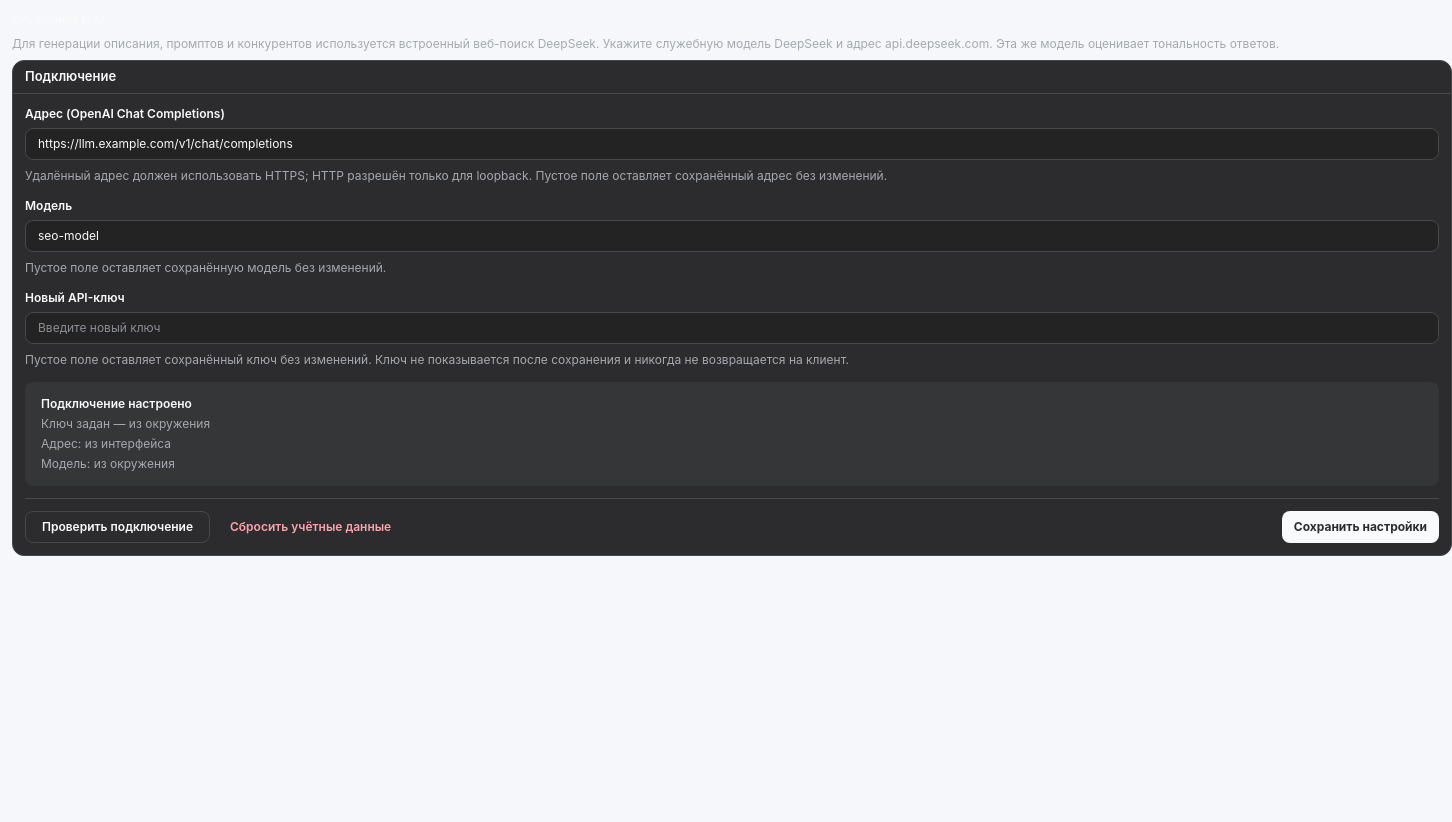
it: SeoSettingsPanel › reports a failed connection probe with the safe upstream message
Click the button "Проверить подключение": click(118, 526) [25,510,210,542]
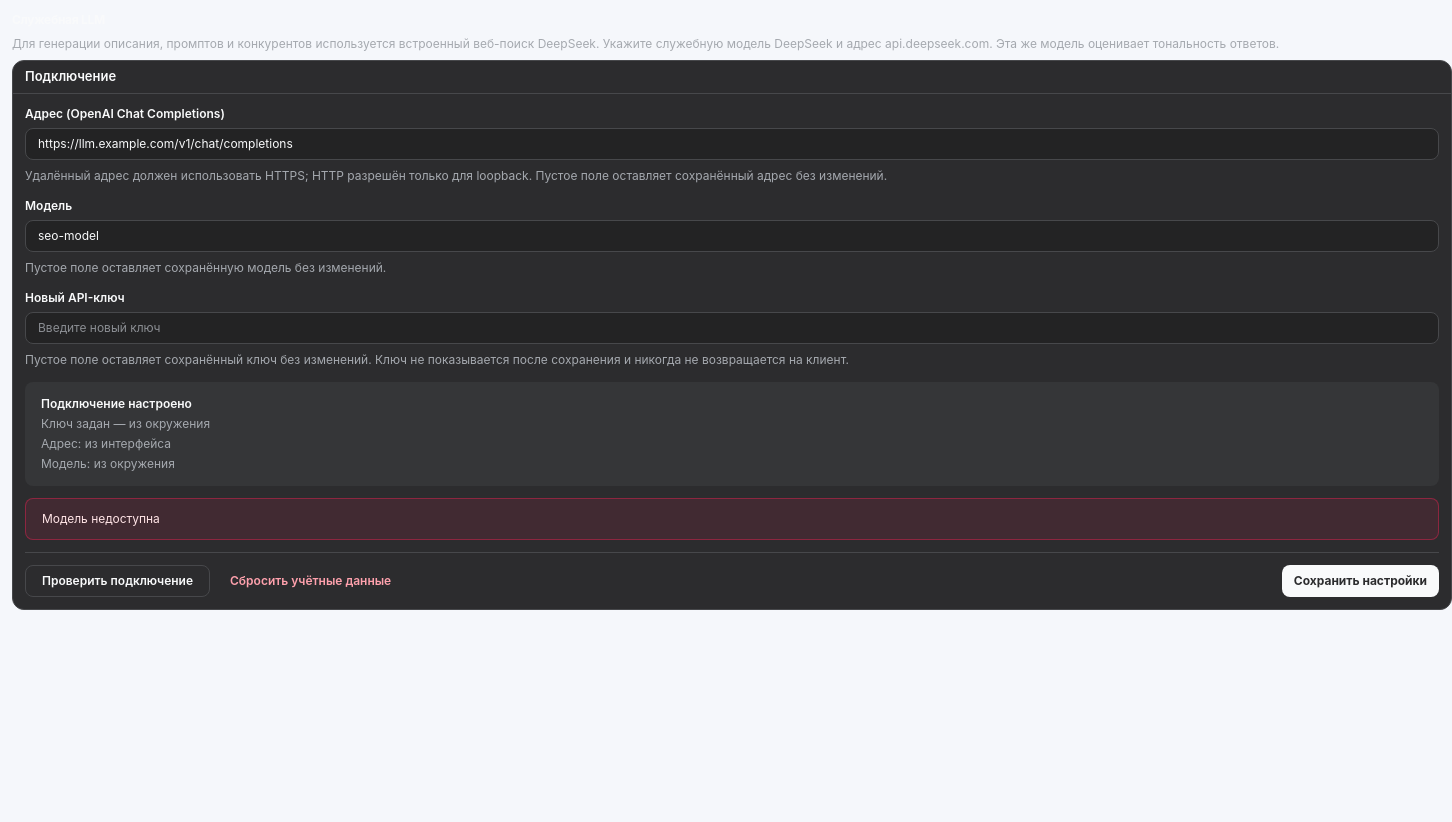
Expected: the message reads "Модель недоступна", [42,510,160,526]
